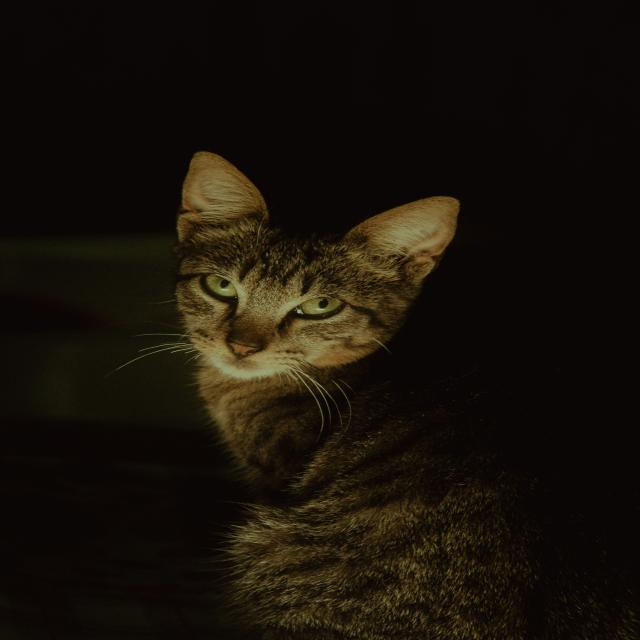cat: (121, 134, 470, 443)
